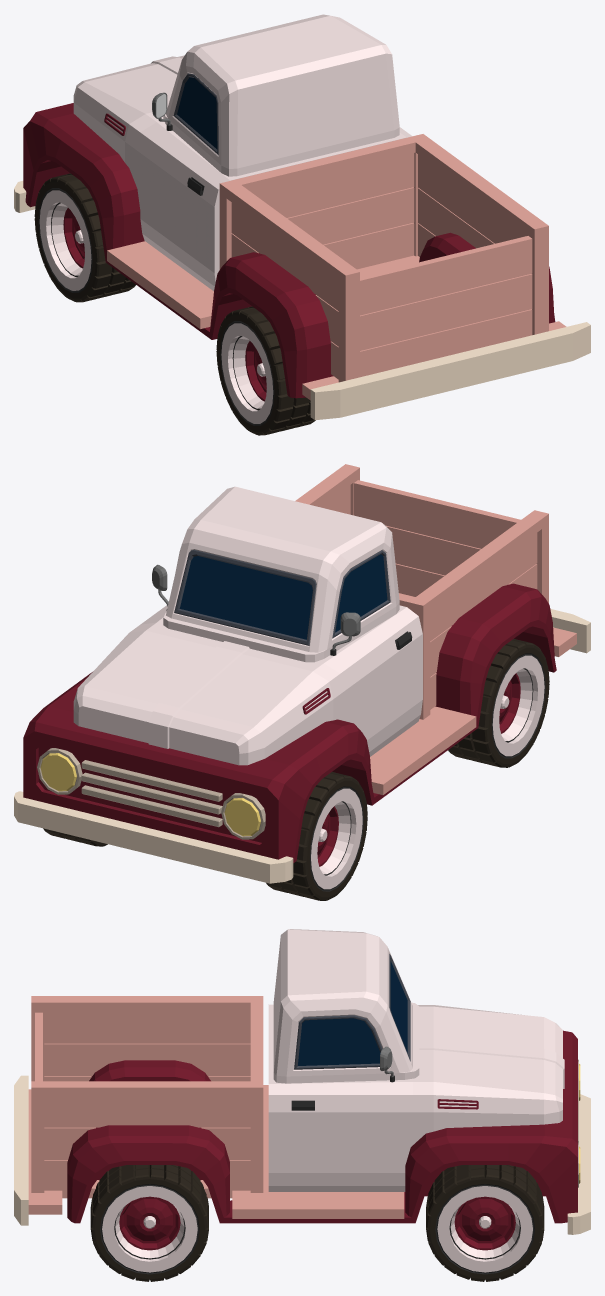
File: truck.glb
3 renders of one model, top to bottom at view 1: azimuth 30°, elevation 25°; view 2: azimuth 150°, elevation 25°; view 3: azimuth 270°, elevation 25°, orthographic. The views are drawn at different scales.
Visible parts, largest first — view 1: Mini_Pickup_Truck_01_3, Mini_Pickup_Truck_Wheel_01_RL_6, Mini_Pickup_Truck_Wheel_01_FL_4; view 2: Mini_Pickup_Truck_01_3, Mini_Pickup_Truck_Wheel_01_RL_6, Mini_Pickup_Truck_Wheel_01_FL_4; view 3: Mini_Pickup_Truck_01_3, Mini_Pickup_Truck_Wheel_01_FR_5, Mini_Pickup_Truck_Wheel_01_RR_7.
Boxes of the visible parts, x1,y1,x2,y2 form: Mini_Pickup_Truck_01_3: (14,14,590,420); Mini_Pickup_Truck_Wheel_01_RL_6: (216,306,315,435); Mini_Pickup_Truck_Wheel_01_FL_4: (34,173,135,302); Mini_Pickup_Truck_01_3: (14,464,590,883); Mini_Pickup_Truck_Wheel_01_RL_6: (448,639,549,767); Mini_Pickup_Truck_Wheel_01_FL_4: (266,772,367,900); Mini_Pickup_Truck_01_3: (14,929,590,1234); Mini_Pickup_Truck_Wheel_01_FR_5: (426,1165,544,1281); Mini_Pickup_Truck_Wheel_01_RR_7: (90,1165,208,1281).
Size of the model in its own units: 1.14 by 1.11 by 2.24.
Materials: 1 (1 with a texture image).
